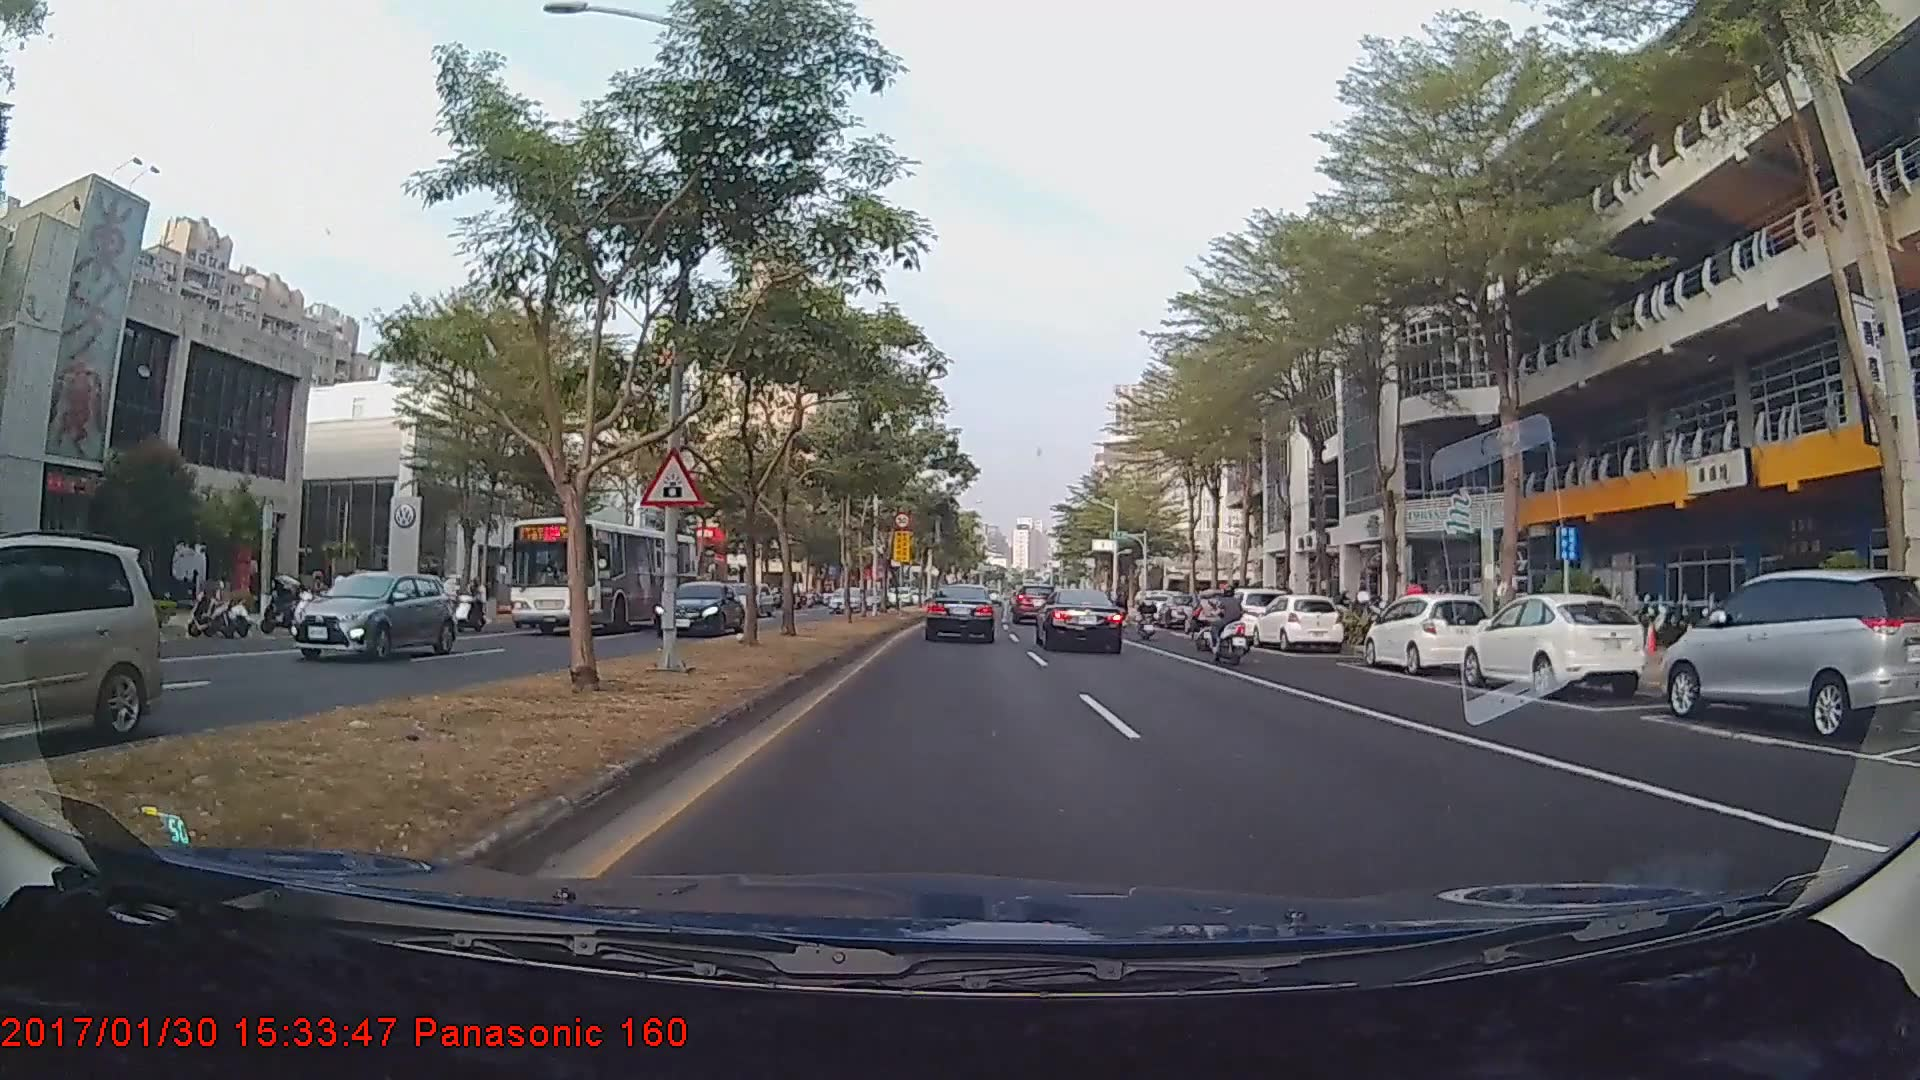rider: (1202, 582, 1256, 668), (1193, 589, 1235, 651), (450, 577, 493, 635), (1137, 586, 1163, 642)
vehicle: (1656, 570, 1920, 741), (0, 533, 164, 754), (508, 516, 702, 636), (1459, 592, 1646, 698), (286, 570, 455, 661), (1364, 593, 1491, 674), (1037, 586, 1124, 654), (1254, 594, 1343, 653), (655, 577, 743, 635), (1203, 583, 1289, 638), (924, 582, 998, 644), (721, 582, 773, 619), (1010, 583, 1055, 622), (824, 582, 866, 610)
